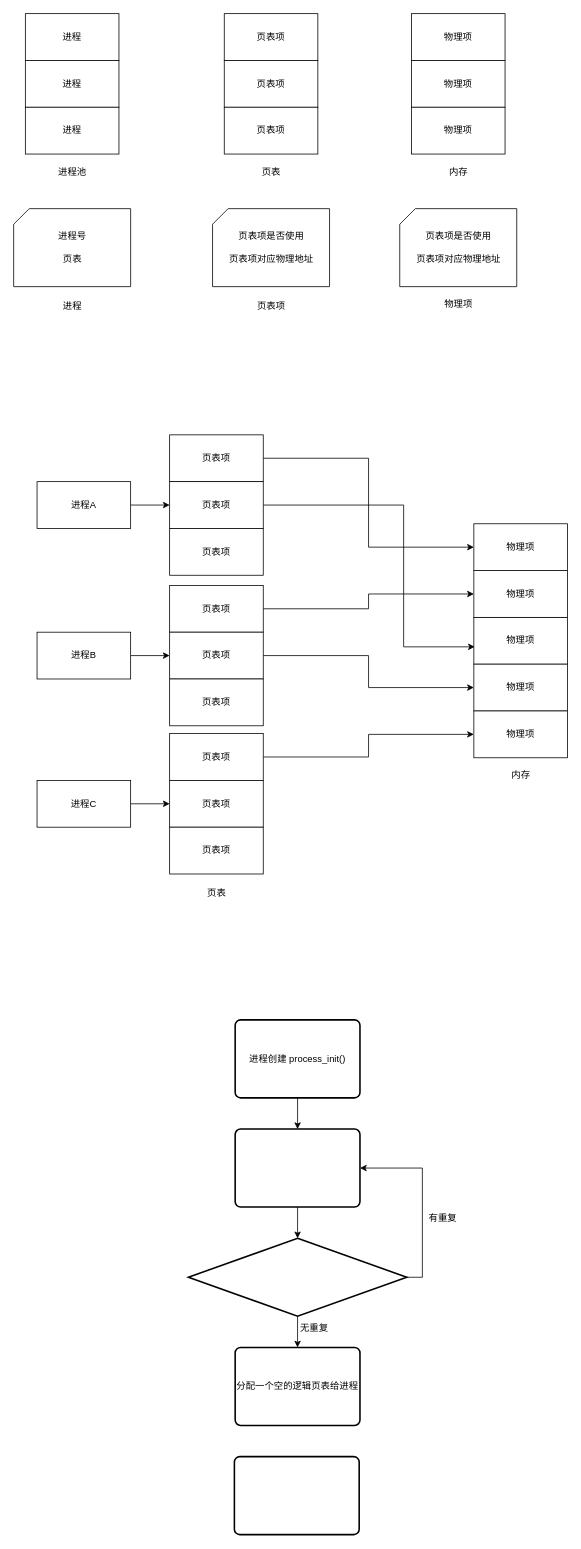
Some shapes in this 581 by 1549 pixel diagram are drawn without their labels. The centre of each missing label's shape, as x and y in pixels:
"判断pid号是否和进程池中的pid号有重复" goes at (297,1277).
"根据进程池的进程号进行比对，随机生成一个pid号" goes at (297,1167).
"随机分配三块物理内存给进程使用 virtual_memory_allocate(pcbi, 3 )" goes at (296,1495).
